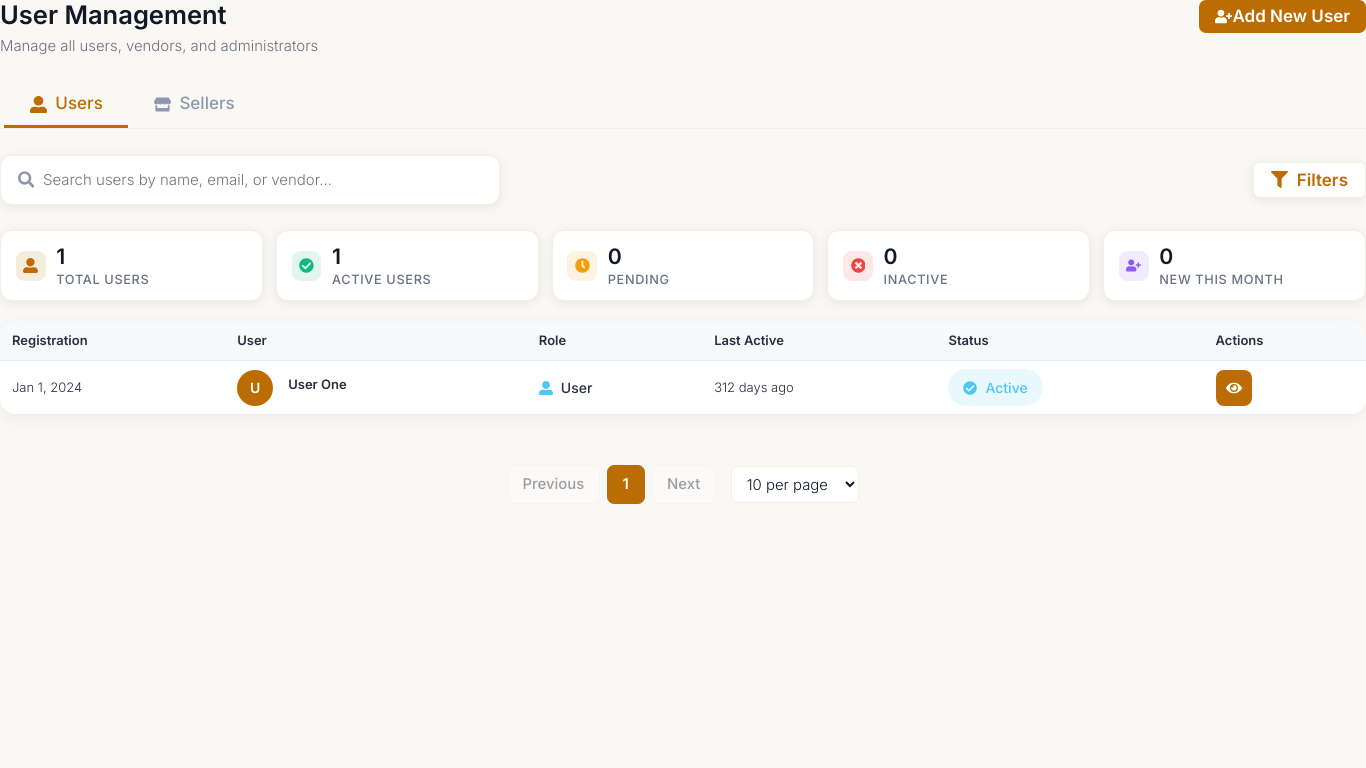
it: UsersPage › opens add user modal
The width and height of the screenshot is (1366, 768).
What coordinates should you click on to do the following:
click the button "Add New User"
I would click on:
 (1283, 16)
Its box is [1200,0,1365,33].
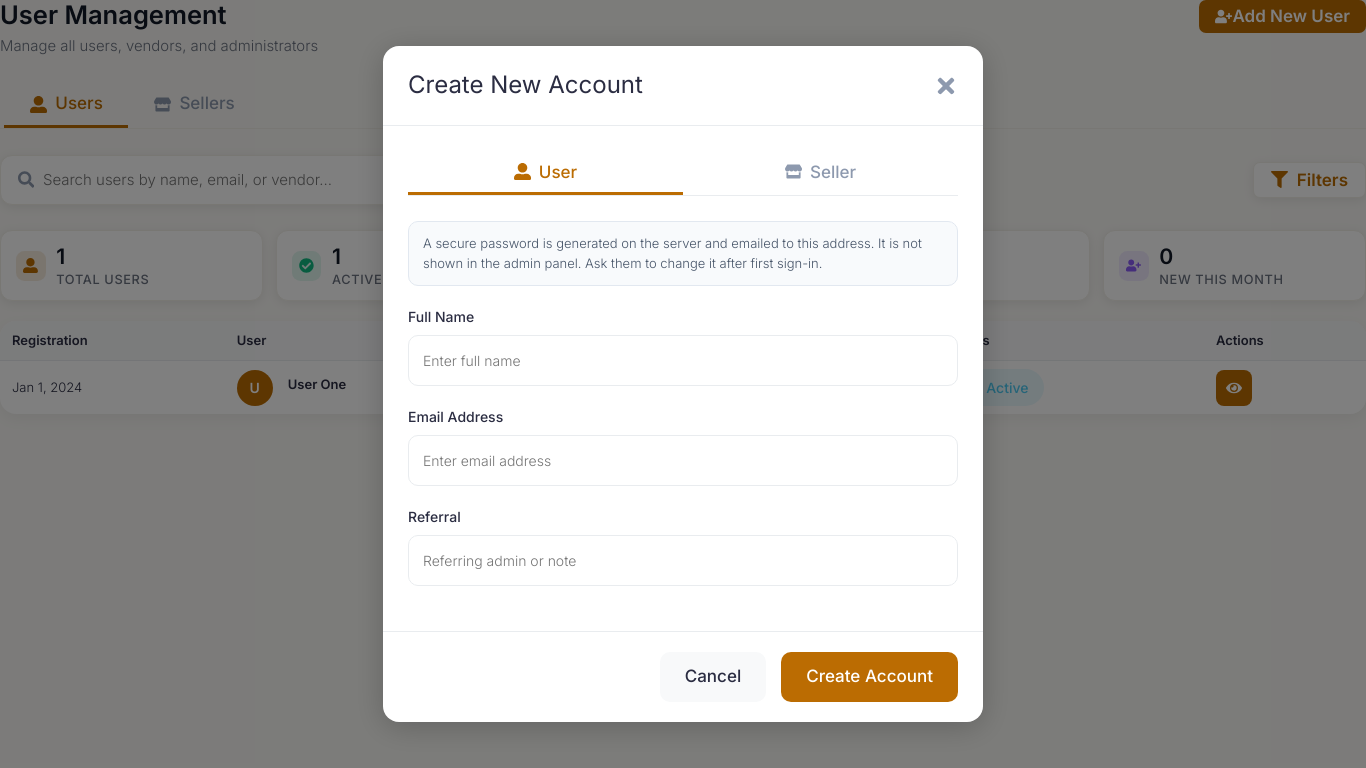
Check: the heading "Create New Account" is shown, box [408,71,643,100]
